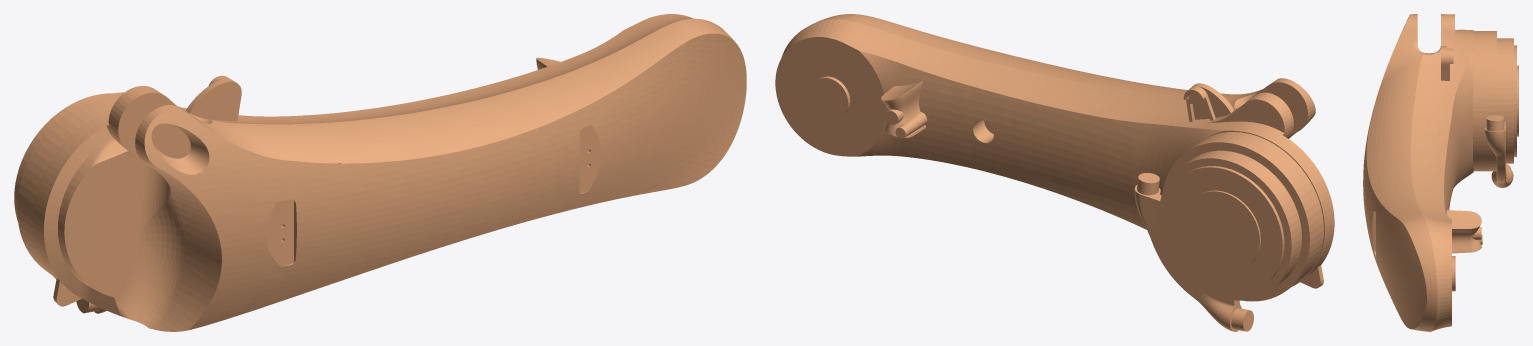
The picture shows the model from 3 angles, left to right: view 1: azimuth 30°, elevation 25°; view 2: azimuth 150°, elevation 25°; view 3: azimuth 270°, elevation 25°; orthographic projection. The views are drawn at different scales.
Visible parts, largest first — view 1: link_02; view 2: link_02; view 3: link_02.
Part boxes in pixels (bbox=[...]): link_02: bbox=[14, 14, 746, 331]; link_02: bbox=[775, 14, 1334, 331]; link_02: bbox=[1363, 14, 1518, 331].
Bounding box in the file's own units: 1.51 × 0.4384 × 0.5324.
